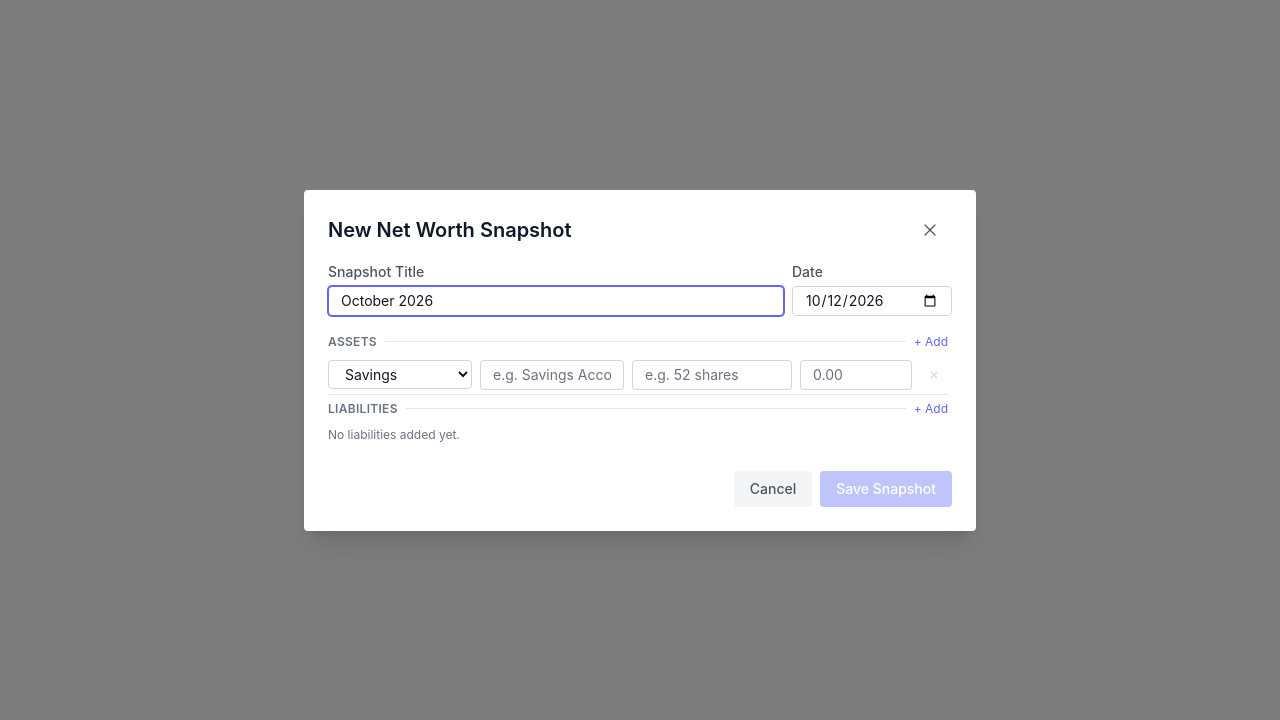
Test: NetWorthSnapshotModal › enables the submit button when title and one entry are filled
The image size is (1280, 720).
Type "Savings" into the field with placeholder "e.g. Savings Account".
click(552, 374); type("Savings")  # box [480,360,624,390]
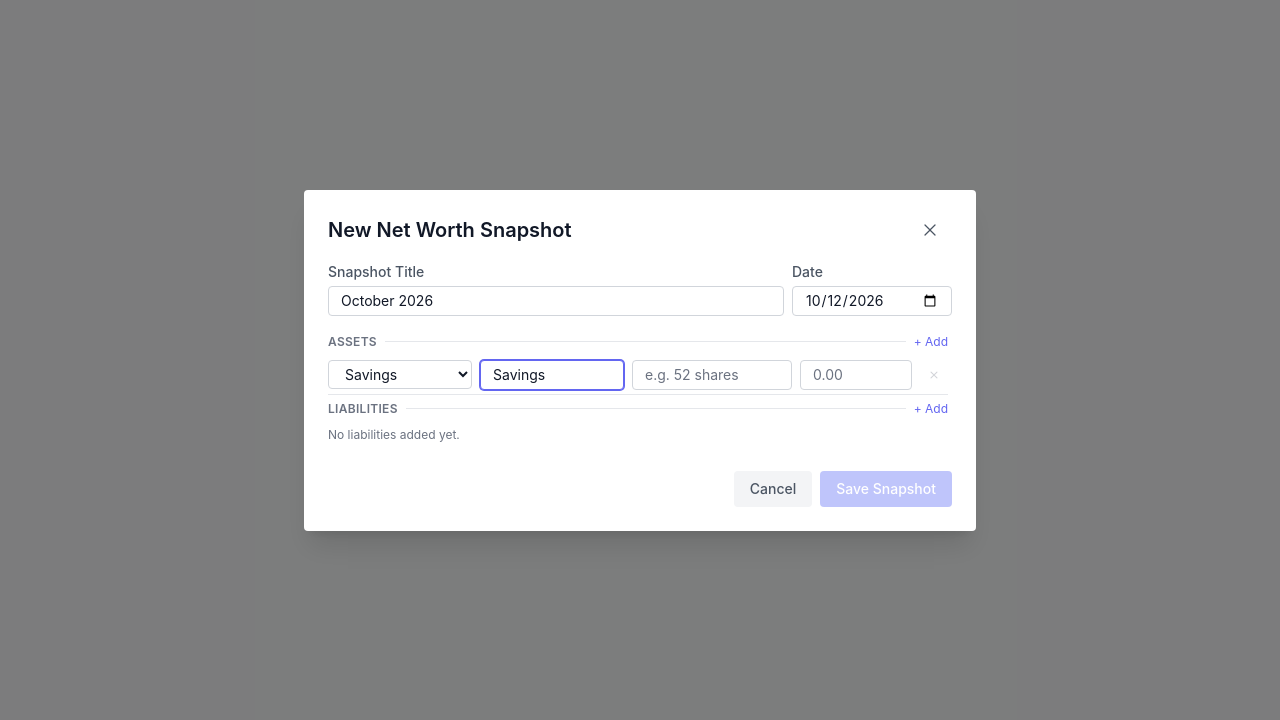
Type "1000" into the number field with placeholder "0.00".
click(856, 374); type("1000")  # box [800,360,912,390]
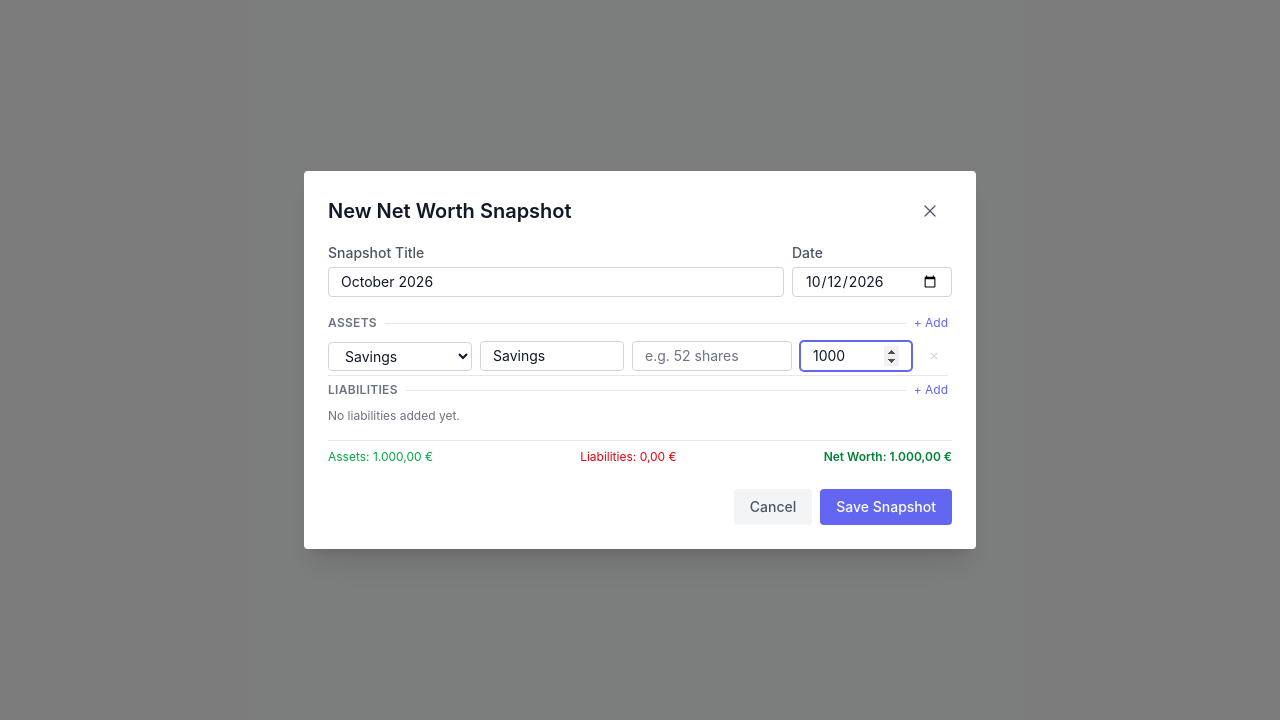
Now the button "Save Snapshot" is enabled, box [820,489,952,525]
